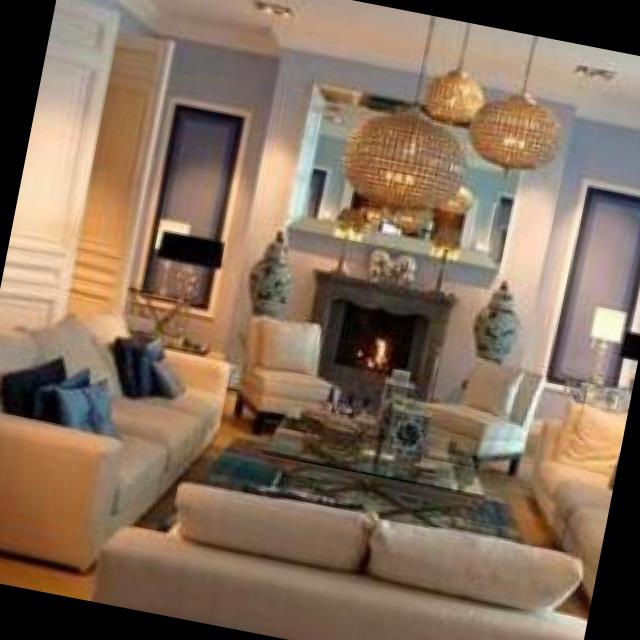fire: (355, 324, 400, 378)
